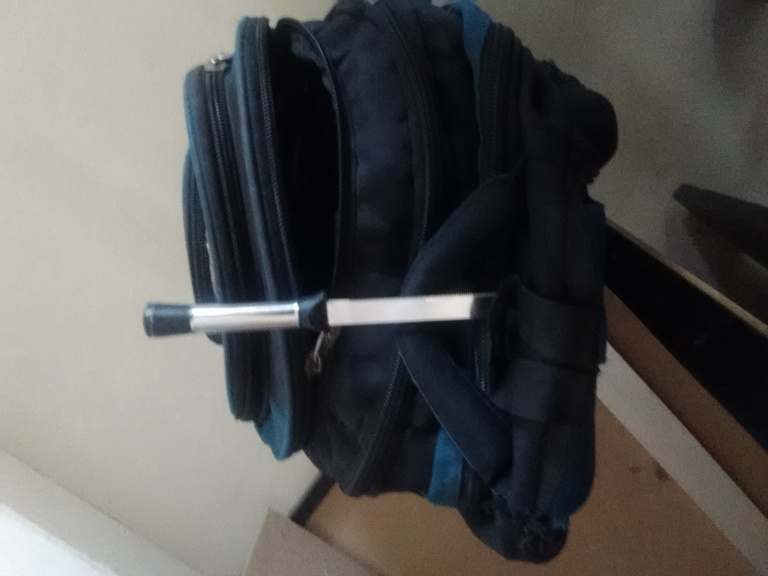knife: (141, 293, 499, 340)
